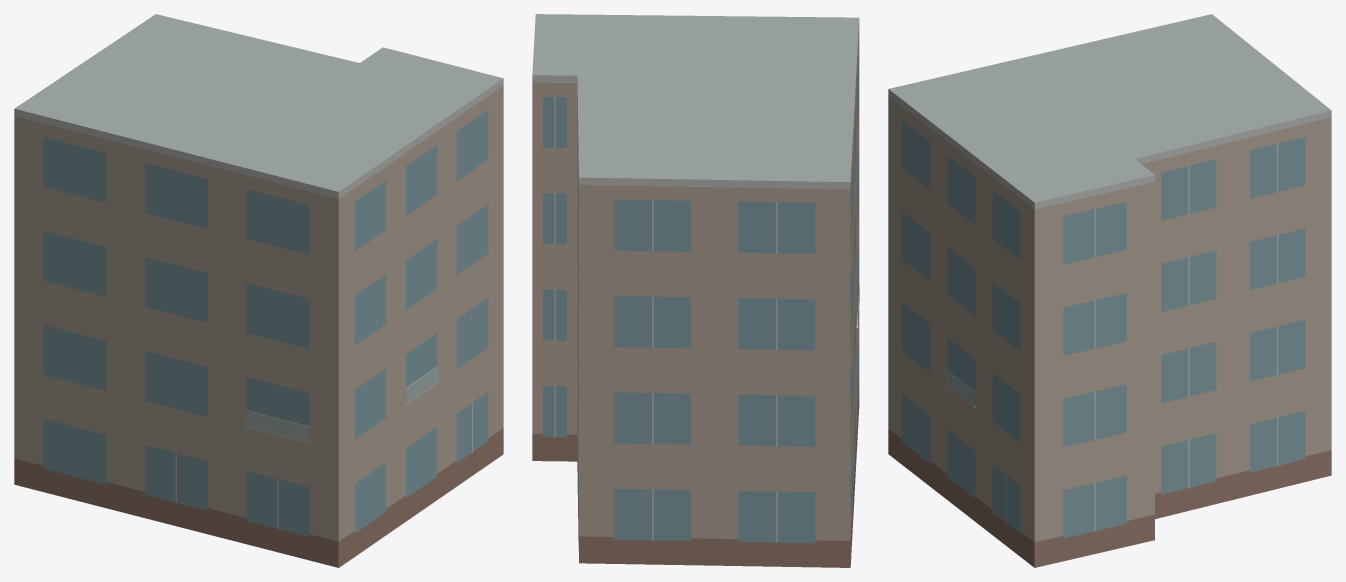
Rendered from survey-upis-32712012.glb.
3 renders of one model, left to right at view 1: azimuth 30°, elevation 25°; view 2: azimuth 150°, elevation 25°; view 3: azimuth 270°, elevation 25°, orthographic. The views are drawn at different scales.
Parts seen in each view (by area): view 1: survey-upis-32712012.tmp; view 2: survey-upis-32712012.tmp; view 3: survey-upis-32712012.tmp.
Boxes of the visible parts, x1,y1,x2,y2 form: survey-upis-32712012.tmp: (14, 14, 503, 567); survey-upis-32712012.tmp: (532, 14, 859, 567); survey-upis-32712012.tmp: (888, 14, 1331, 567).
Size of the model in its own units: 14.19 by 12.8 by 14.08.
